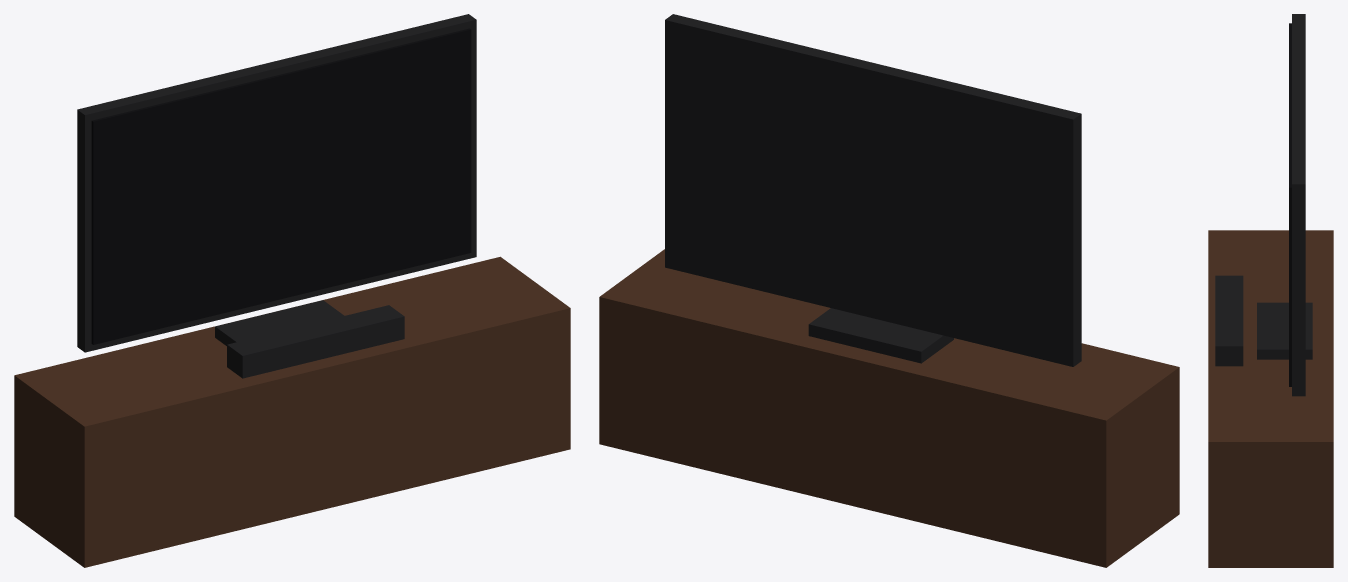
File: tvStand.glb
3 renders of one model, left to right at view 1: azimuth 30°, elevation 25°; view 2: azimuth 150°, elevation 25°; view 3: azimuth 270°, elevation 25°, orthographic. The views are drawn at different scales.
Parts seen in each view (by area): view 1: tvStand; view 2: tvStand; view 3: tvStand.
Part boxes in pixels (x1=…): tvStand: x1=14, y1=14, x2=570, y2=567; tvStand: x1=599, y1=14, x2=1179, y2=567; tvStand: x1=1208, y1=14, x2=1333, y2=567.
Size of the model in its own units: 1.8 by 1.44 by 0.4501.
